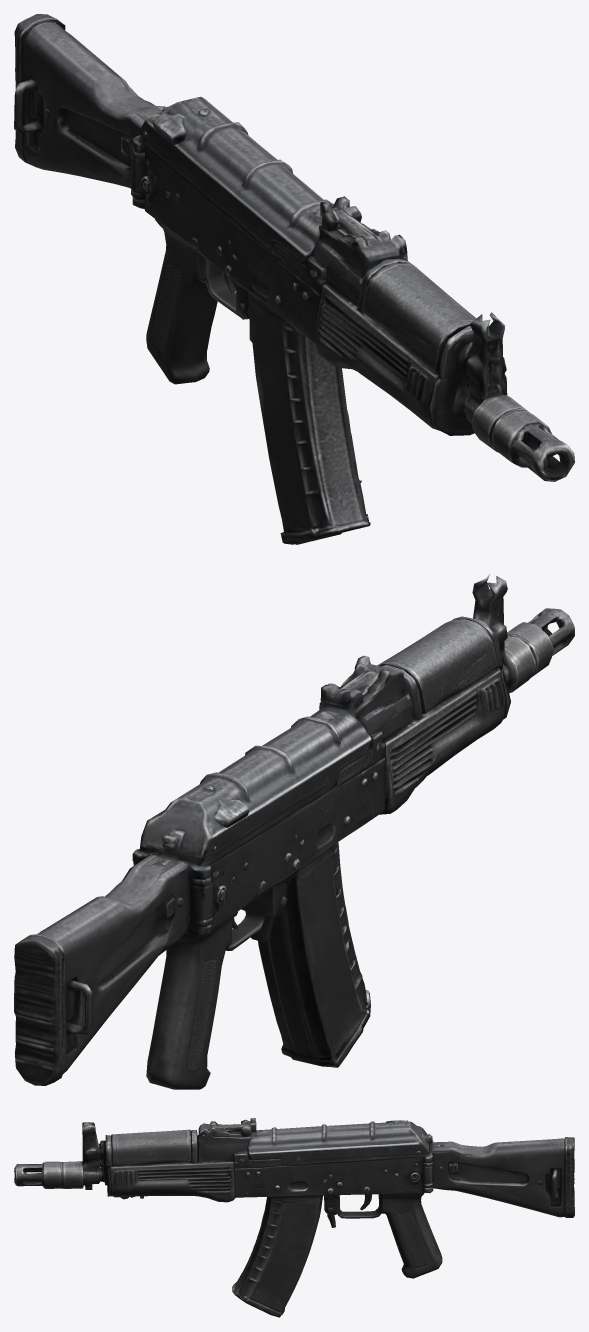
3 renders of one model, top to bottom at view 1: azimuth 30°, elevation 25°; view 2: azimuth 150°, elevation 25°; view 3: azimuth 270°, elevation 25°, orthographic. The views are drawn at different scales.
Visible parts, largest first — view 1: tripo_node_3ed00377-a52e-4929-a4ee-8c88b00c101d; view 2: tripo_node_3ed00377-a52e-4929-a4ee-8c88b00c101d; view 3: tripo_node_3ed00377-a52e-4929-a4ee-8c88b00c101d.
Part boxes in pixels (x1,y1,x2,y2): tripo_node_3ed00377-a52e-4929-a4ee-8c88b00c101d: [14, 14, 574, 544]; tripo_node_3ed00377-a52e-4929-a4ee-8c88b00c101d: [14, 574, 574, 1089]; tripo_node_3ed00377-a52e-4929-a4ee-8c88b00c101d: [14, 1118, 574, 1317].
Bounding box in the file's own units: 0.0903 × 0.3654 × 0.9799.
1 material, 1 textured.
